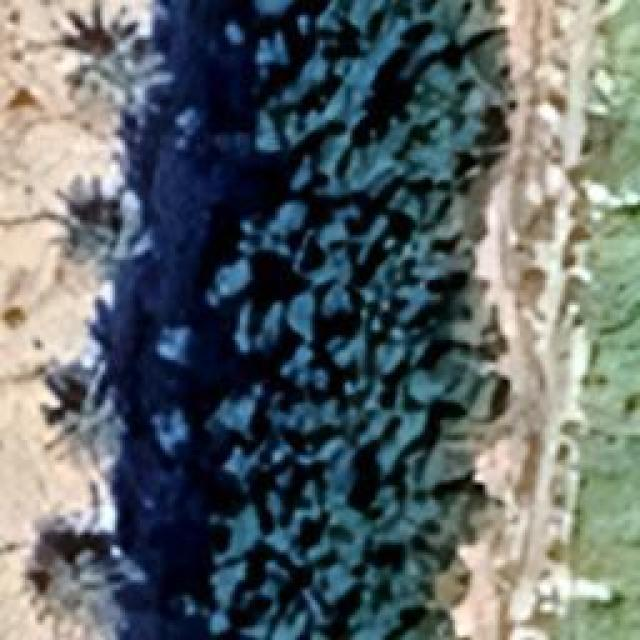PalmTree: (25, 544, 150, 638), (35, 374, 133, 482), (58, 19, 164, 109), (60, 188, 150, 274)
